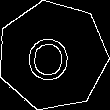O_N: (30, 29, 76, 83)
